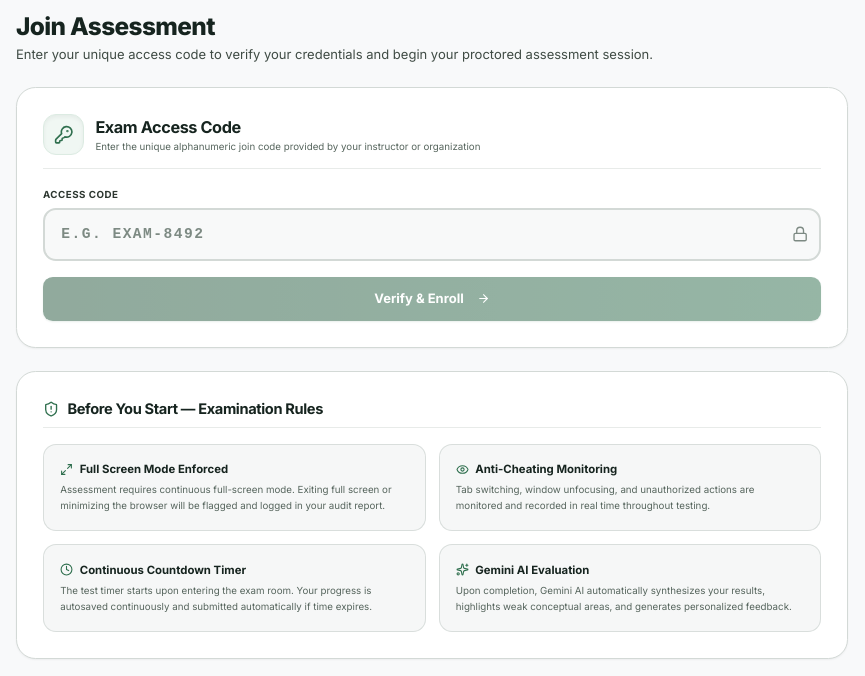
Test case: Portal Workflows & Form Interactions › Candidate Join Assessment › enables submit button and forces uppercase entry
Type "math101" into the field with placeholder "e.g. EXAM-8492".
click(432, 234); type("math101")  # box [43,208,821,261]
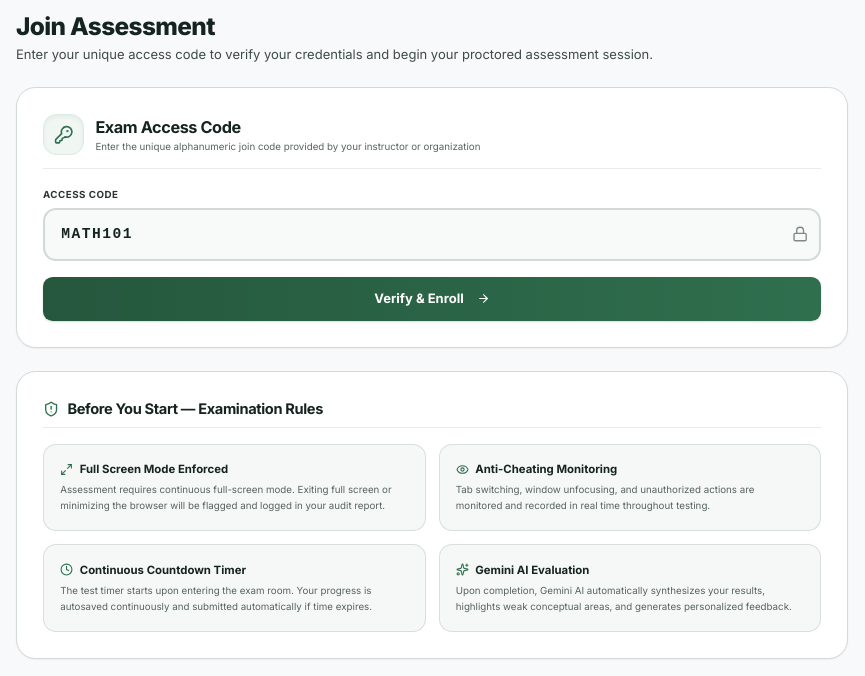
Check: the button "Verify & Enroll" is enabled, box [43,277,821,321]
